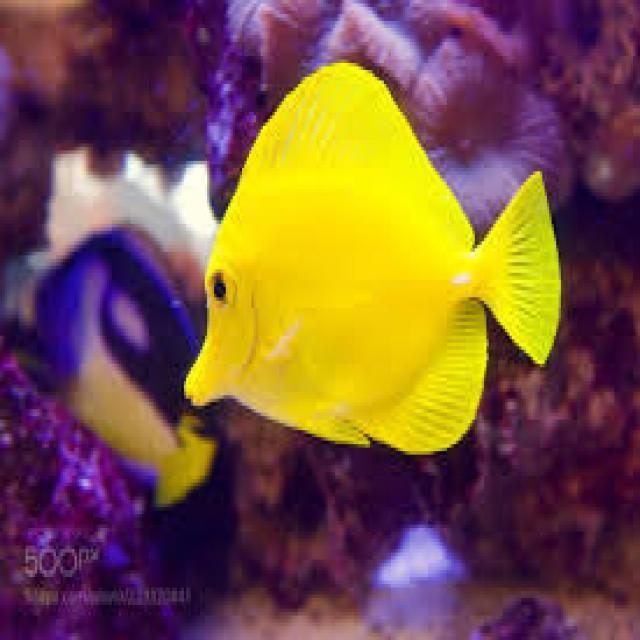YellowTang: (194, 49, 555, 458)
